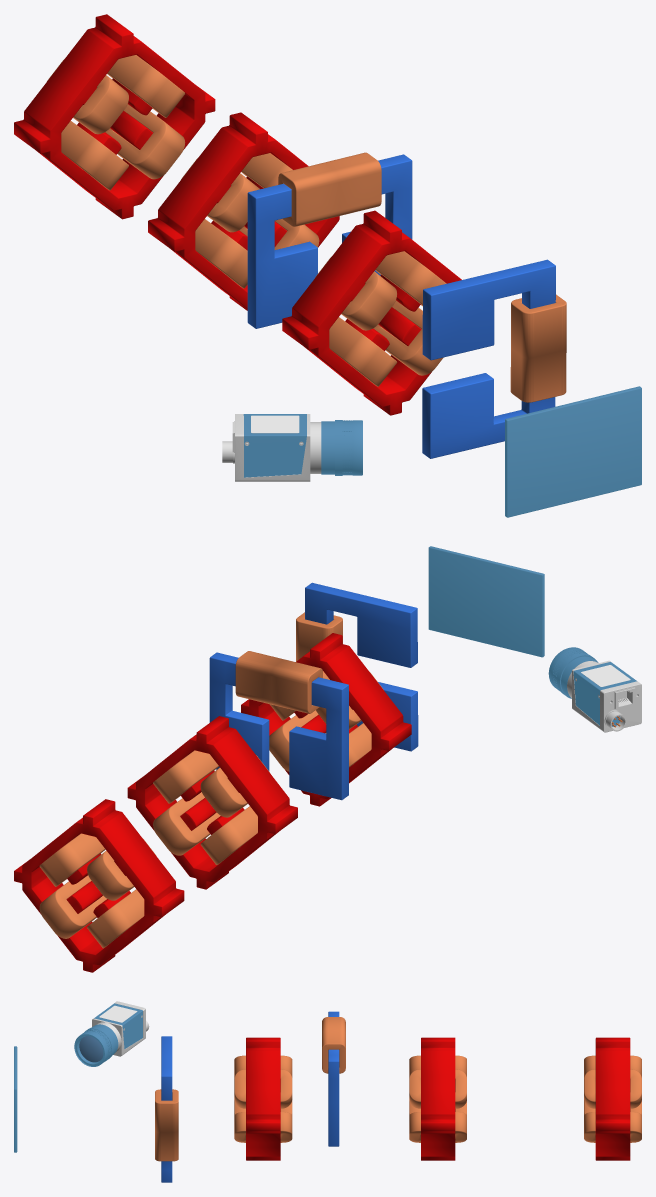
3 views of the same model, one above another, from view 1: azimuth 30°, elevation 25°; view 2: azimuth 150°, elevation 25°; view 3: azimuth 270°, elevation 25° (orthographic). The views are drawn at different scales.
Visible parts, largest first — view 1: quadrupole.glb, screen.glb, horizontal_corrector.glb_1, quadrupole.glb_8, quadrupole.glb_4, quadrupole.glb_1, vertical_corrector.glb, quadrupole.glb_9, quadrupole.glb_5, screen.glb_2, vertical_corrector.glb_1, horizontal_corrector.glb (+8 smaller); view 2: quadrupole.glb, screen.glb, quadrupole.glb_4, vertical_corrector.glb, quadrupole.glb_1, quadrupole.glb_5, horizontal_corrector.glb_1, quadrupole.glb_8, vertical_corrector.glb_1, screen.glb_2, screen.glb_1, quadrupole.glb_9 (+6 smaller); view 3: quadrupole.glb, quadrupole.glb_8, quadrupole.glb_4, quadrupole.glb_9, quadrupole.glb_5, quadrupole.glb_1, screen.glb_2, horizontal_corrector.glb, vertical_corrector.glb, vertical_corrector.glb_1, horizontal_corrector.glb_1, horizontal_corrector.glb_2 (+6 smaller).
Boxes of the visible parts, box(x1,y1,x2,y2) form: quadrupole.glb: box(14, 14, 215, 219); screen.glb: box(505, 386, 641, 517); horizontal_corrector.glb_1: box(422, 259, 555, 458); quadrupole.glb_8: box(282, 210, 461, 415); quadrupole.glb_4: box(148, 112, 339, 310); quadrupole.glb_1: box(47, 55, 185, 190); vertical_corrector.glb: box(247, 154, 412, 328); quadrupole.glb_9: box(315, 251, 446, 386); quadrupole.glb_5: box(181, 153, 319, 288); screen.glb_2: box(243, 414, 362, 477); vertical_corrector.glb_1: box(278, 152, 381, 226); horizontal_corrector.glb: box(510, 294, 566, 402); quadrupole.glb: box(14, 799, 184, 972); screen.glb: box(428, 546, 544, 657); quadrupole.glb_4: box(127, 716, 297, 889); vertical_corrector.glb: box(209, 652, 348, 800); quadrupole.glb_1: box(39, 833, 155, 948); quadrupole.glb_5: box(153, 750, 269, 864); horizontal_corrector.glb_1: box(305, 582, 418, 751); quadrupole.glb_8: box(241, 633, 411, 806); vertical_corrector.glb_1: box(235, 651, 322, 713); screen.glb_2: box(548, 647, 636, 726); screen.glb_1: box(567, 660, 641, 732); quadrupole.glb_9: box(269, 671, 383, 771); quadrupole.glb: box(595, 1037, 630, 1160); quadrupole.glb_8: box(246, 1037, 280, 1160); quadrupole.glb_4: box(421, 1037, 455, 1160); quadrupole.glb_9: box(234, 1055, 292, 1142); quadrupole.glb_5: box(409, 1055, 466, 1142); quadrupole.glb_1: box(584, 1055, 641, 1142); screen.glb_2: box(74, 1003, 142, 1066); horizontal_corrector.glb: box(155, 1089, 178, 1161); vertical_corrector.glb: box(328, 1011, 339, 1146); vertical_corrector.glb_1: box(322, 1017, 345, 1073); horizontal_corrector.glb_1: box(161, 1036, 172, 1182); horizontal_corrector.glb_2: box(155, 1089, 178, 1160).
Size of the model in its own units: 0.8628 by 0.4481 by 1.98.
